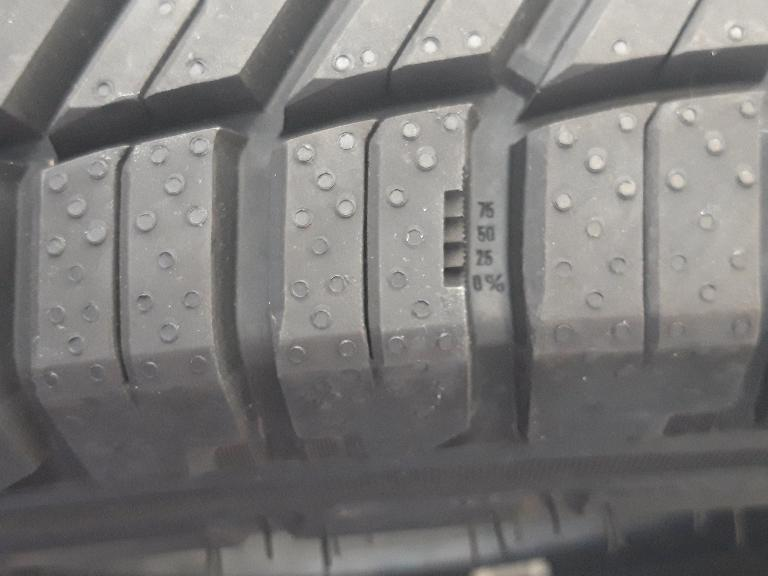temoin:100: (439, 160, 474, 291)
